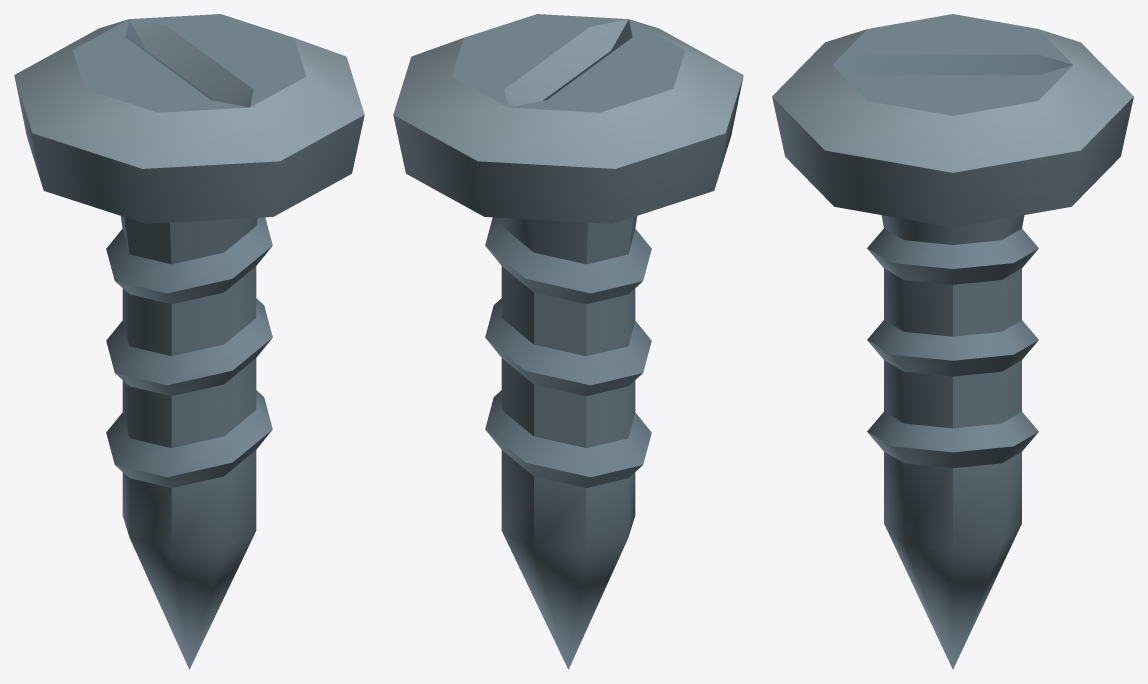
The model's file is screw_a.glb.
3 renders of one model, left to right at view 1: azimuth 30°, elevation 25°; view 2: azimuth 150°, elevation 25°; view 3: azimuth 270°, elevation 25°, orthographic.
Parts seen in each view (by area): view 1: screw_A; view 2: screw_A; view 3: screw_A.
Boxes of the visible parts, x1,y1,x2,y2 form: screw_A: (14, 14, 364, 669); screw_A: (393, 14, 743, 669); screw_A: (772, 14, 1133, 669).
Bounding box in the file's own units: 0.0953 × 0.1759 × 0.0953.
1 material, 1 textured.
